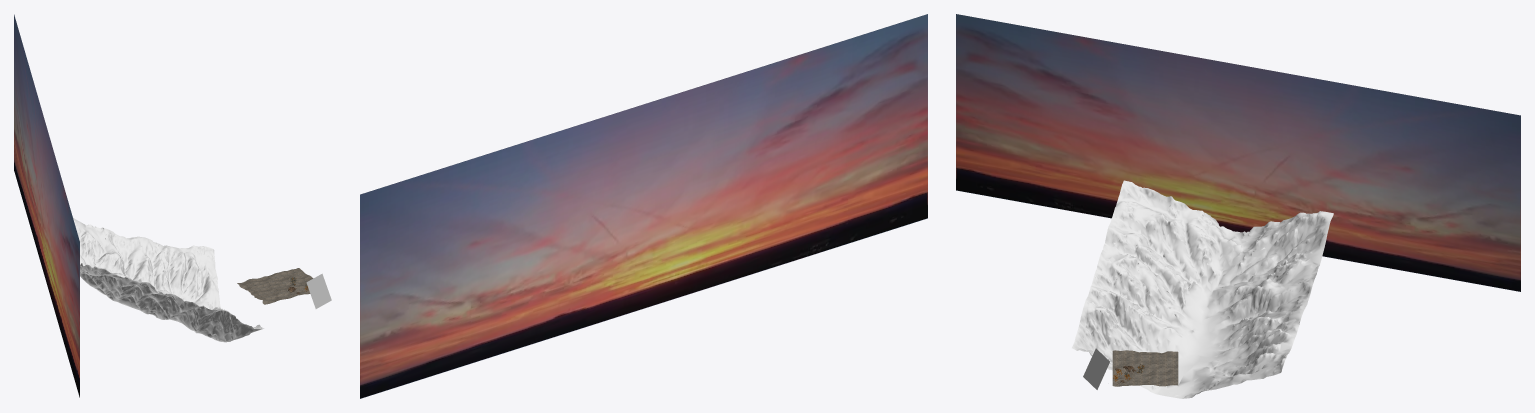
Rendered from world-mobile.glb.
3 views of the same model, side by side, from view 1: azimuth 30°, elevation 25°; view 2: azimuth 150°, elevation 25°; view 3: azimuth 270°, elevation 25° (orthographic). The views are drawn at different scales.
Parts seen in each view (by area): view 1: Rocky Mountain Ridge Terrain, StockSnap_NDWYCWB1CS, Desert Procedural.001, Plane; view 2: StockSnap_NDWYCWB1CS; view 3: StockSnap_NDWYCWB1CS, Rocky Mountain Ridge Terrain, Desert Procedural.001, Plane.
Part boxes in pixels (x1,y1,x2,y2): Rocky Mountain Ridge Terrain: (73, 217, 263, 342); StockSnap_NDWYCWB1CS: (14, 14, 79, 397); Desert Procedural.001: (237, 268, 313, 304); Plane: (306, 273, 331, 308); StockSnap_NDWYCWB1CS: (360, 14, 927, 398); StockSnap_NDWYCWB1CS: (956, 14, 1520, 291); Rocky Mountain Ridge Terrain: (1072, 180, 1333, 398); Desert Procedural.001: (1112, 350, 1178, 386); Plane: (1083, 348, 1109, 389).
Bounding box in the file's own units: 915 × 615 × 1252.
18 materials, 15 textured.
